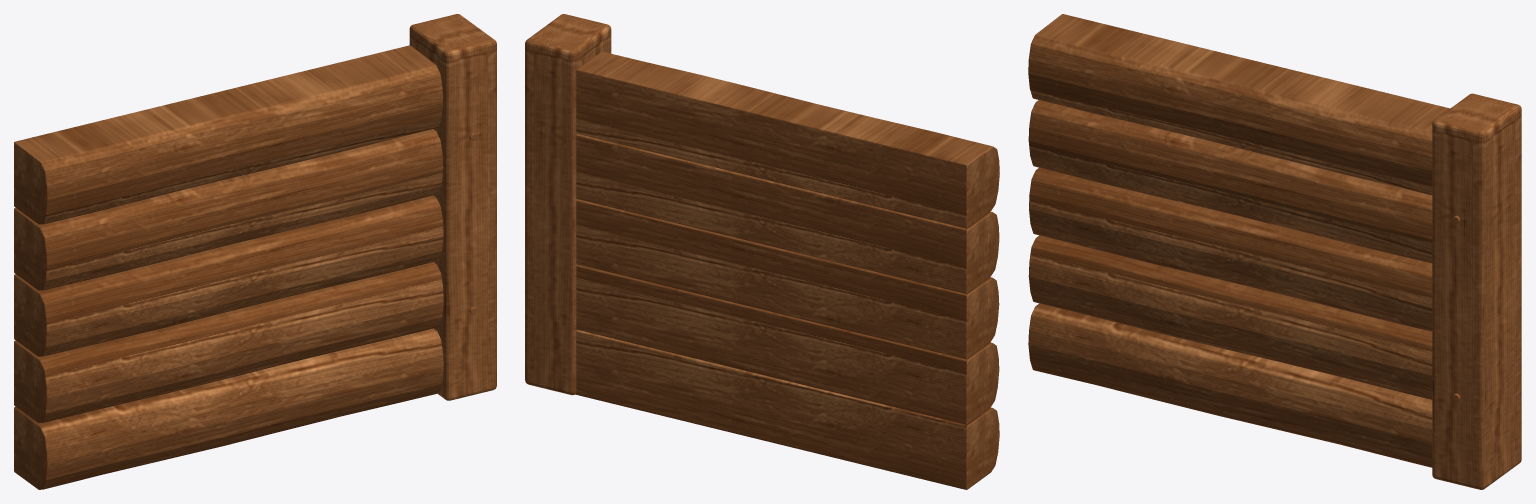
Rendered from timber-wall.glb.
3 views of the same model, side by side, from view 1: azimuth 30°, elevation 25°; view 2: azimuth 150°, elevation 25°; view 3: azimuth 330°, elevation 25° (orthographic). The views are drawn at different scales.
Parts seen in each view (by area): view 1: Hewn horizontal timber 5, Hewn horizontal timber 1, Hewn horizontal timber 2, Hewn horizontal timber 3, Hewn horizontal timber 4, Housed corner post; view 2: Hewn horizontal timber 5, Hewn horizontal timber 1, Hewn horizontal timber 4, Hewn horizontal timber 2, Hewn horizontal timber 3, Housed corner post; view 3: Hewn horizontal timber 5, Housed corner post, Hewn horizontal timber 4, Hewn horizontal timber 1, Hewn horizontal timber 3, Hewn horizontal timber 2.
Part boxes in pixels (bbox=[...]): Hewn horizontal timber 5: bbox=[14, 45, 443, 224]; Hewn horizontal timber 1: bbox=[14, 328, 443, 489]; Hewn horizontal timber 2: bbox=[14, 262, 443, 423]; Hewn horizontal timber 3: bbox=[14, 195, 443, 356]; Hewn horizontal timber 4: bbox=[14, 129, 443, 290]; Housed corner post: bbox=[409, 14, 496, 400]; Hewn horizontal timber 5: bbox=[576, 51, 999, 228]; Hewn horizontal timber 1: bbox=[575, 330, 999, 489]; Hewn horizontal timber 4: bbox=[576, 134, 999, 293]; Hewn horizontal timber 2: bbox=[576, 264, 999, 424]; Hewn horizontal timber 3: bbox=[576, 199, 999, 359]; Housed corner post: bbox=[525, 14, 611, 395]; Hewn horizontal timber 5: bbox=[1028, 14, 1449, 195]; Housed corner post: bbox=[1432, 93, 1521, 489]; Hewn horizontal timber 4: bbox=[1028, 100, 1432, 263]; Hewn horizontal timber 1: bbox=[1028, 303, 1432, 467]; Hewn horizontal timber 3: bbox=[1029, 167, 1432, 331]; Hewn horizontal timber 2: bbox=[1028, 235, 1432, 399].
Size of the model in its own units: 1.38 by 1.03 by 0.215.
Materials: 3 (3 with a texture image).
